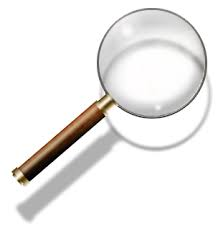searchIcon: (12, 5, 208, 184)
